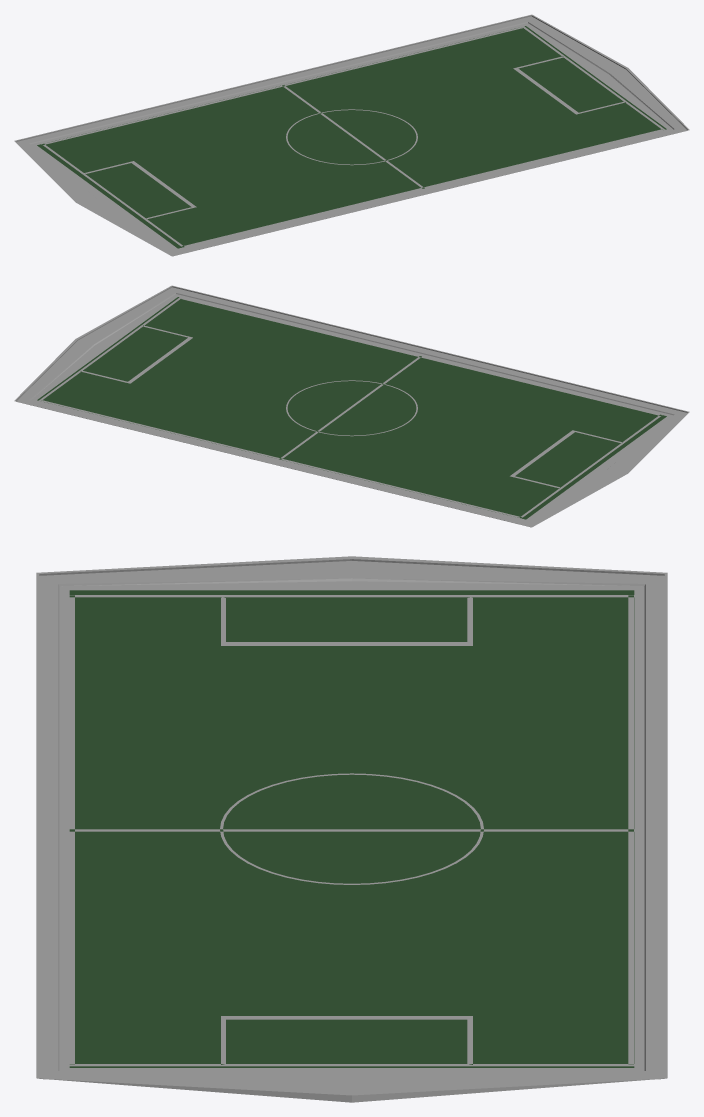
The model's file is campo.dae.
The picture shows the model from 3 angles, top to bottom: view 1: azimuth 30°, elevation 25°; view 2: azimuth 150°, elevation 25°; view 3: azimuth 270°, elevation 25°; orthographic projection. The views are drawn at different scales.
Visible parts, largest first — view 1: campo; view 2: campo; view 3: campo.
Boxes of the visible parts, x1=… form: campo: x1=14, y1=14, x2=689, y2=256; campo: x1=14, y1=285, x2=689, y2=527; campo: x1=36, y1=556, x2=667, y2=1102.
Bounding box in the file's own units: 3.17 × 1.57 × 0.0175.
